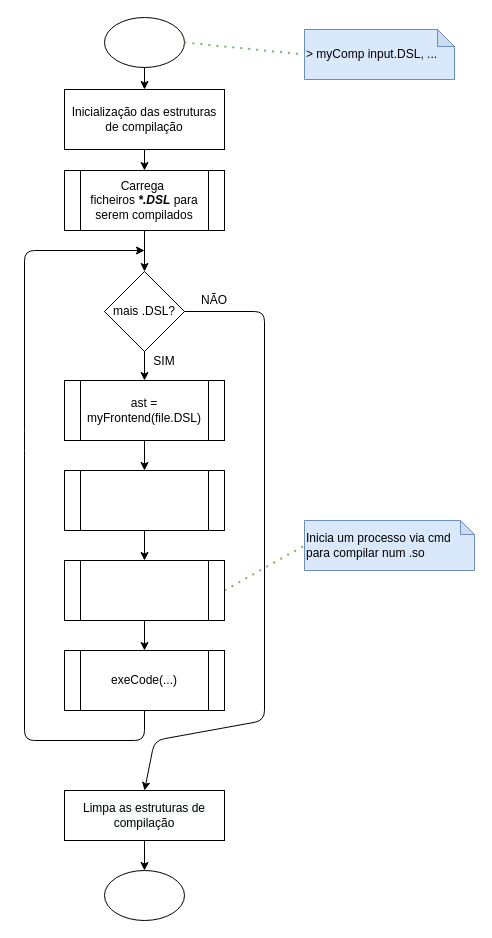
Some shapes in this 492 by 938 pixel diagram are drawn without their labels. Each missing label, with the centre of its shape:
"cCode = myBackend(ast)" belongs at (144,500).
"exeCode = c_compiler(cCode)" belongs at (144,590).
"Fim" belongs at (144,895).
"Início" belongs at (144,42).
